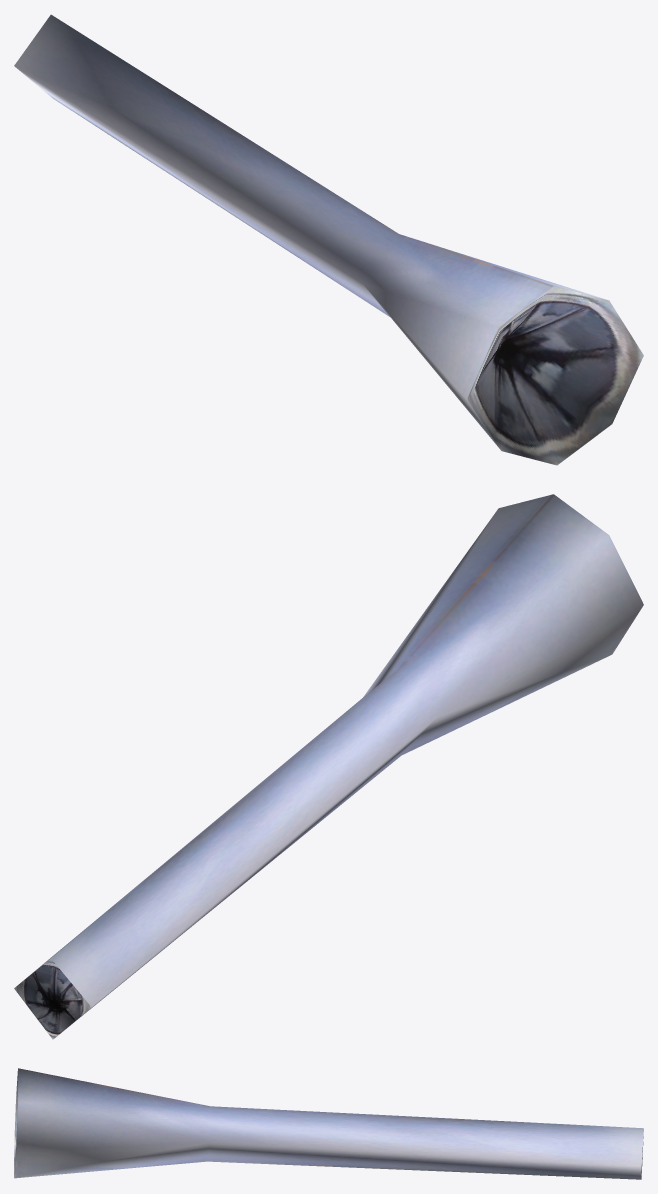
File: gunshopgunbarrel.obj
3 renders of one model, top to bottom at view 1: azimuth 30°, elevation 25°; view 2: azimuth 150°, elevation 25°; view 3: azimuth 270°, elevation 25°, orthographic. The views are drawn at different scales.
Parts seen in each view (by area): view 1: gunshopgunbarrel; view 2: gunshopgunbarrel; view 3: gunshopgunbarrel.
Part boxes in pixels (left/top/right/bottom): gunshopgunbarrel: left=14, top=14, right=643, bottom=465; gunshopgunbarrel: left=14, top=494, right=643, bottom=1039; gunshopgunbarrel: left=14, top=1068, right=643, bottom=1179.
Size of the model in its own units: 0.2191 by 0.212 by 1.09.
Materials: 1 (1 with a texture image).
